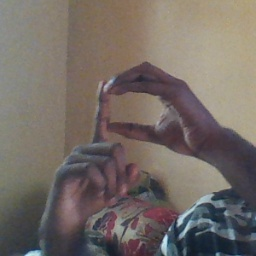P: (57, 57, 209, 208)
